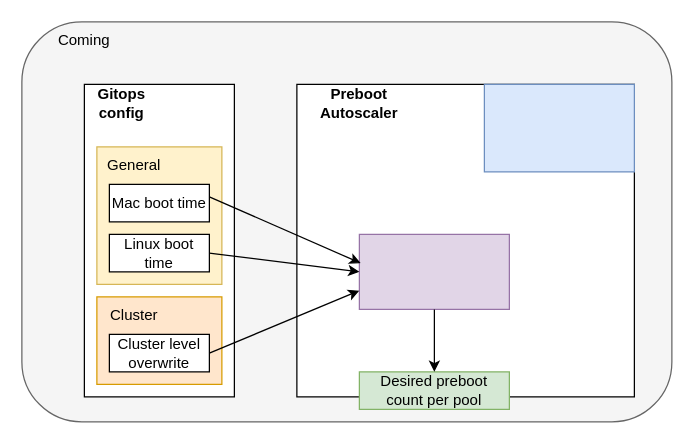
Image size: 694x444. Some labels were removed from this diagram. The shapes that lost their labels are listed below. From the top down, each one's centre as x and y in pixels, then its label:
At (x=558, y=127): "Env vars".
At (x=433, y=271): "Forecast based QROT".
